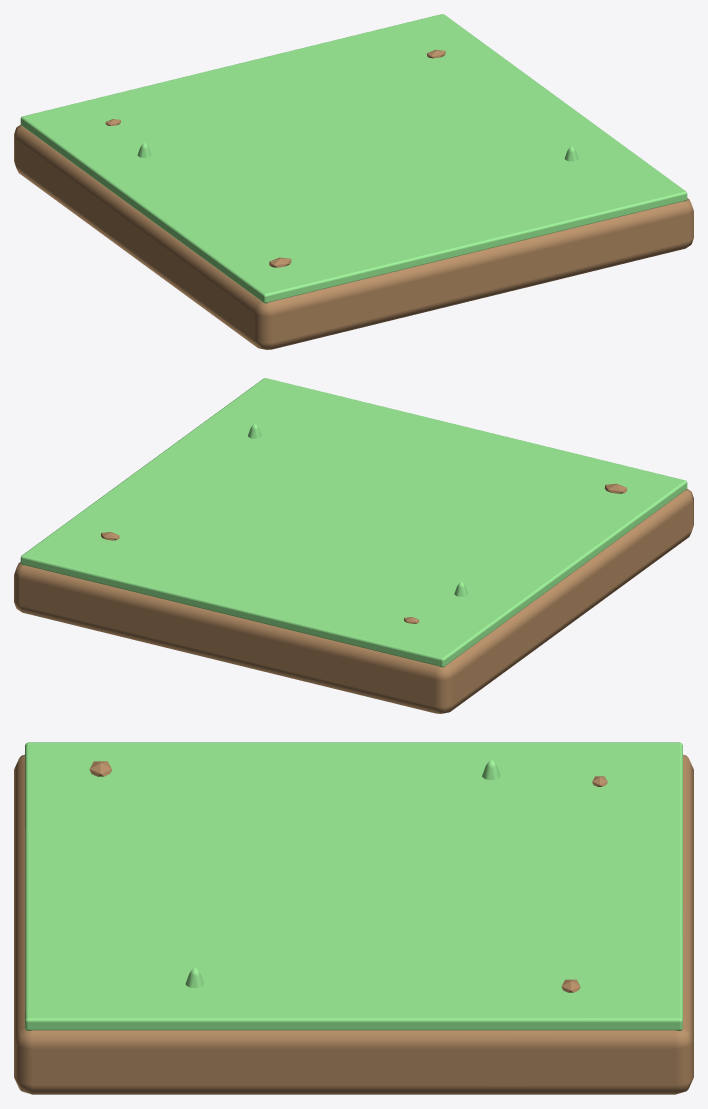
The model's file is Tile_Woodland.fbx.
3 views of the same model, one above another, from view 1: azimuth 30°, elevation 25°; view 2: azimuth 150°, elevation 25°; view 3: azimuth 270°, elevation 25° (orthographic). The views are drawn at different scales.
Visible parts, largest first — view 1: Soft grass surface.001, Rounded soil edge.001; view 2: Soft grass surface.001, Rounded soil edge.001; view 3: Soft grass surface.001, Rounded soil edge.001.
Boxes of the visible parts, bbox=[...] form: Soft grass surface.001: bbox=[20, 14, 687, 303]; Rounded soil edge.001: bbox=[14, 124, 693, 349]; Soft grass surface.001: bbox=[20, 378, 687, 667]; Rounded soil edge.001: bbox=[14, 488, 693, 713]; Soft grass surface.001: bbox=[25, 742, 682, 1030]; Rounded soil edge.001: bbox=[14, 754, 693, 1094].
Size of the model in its own units: 940 by 146 by 940.
